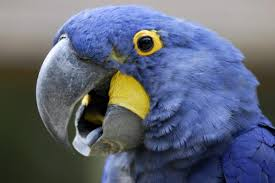guacamaya: (34, 4, 275, 182)
